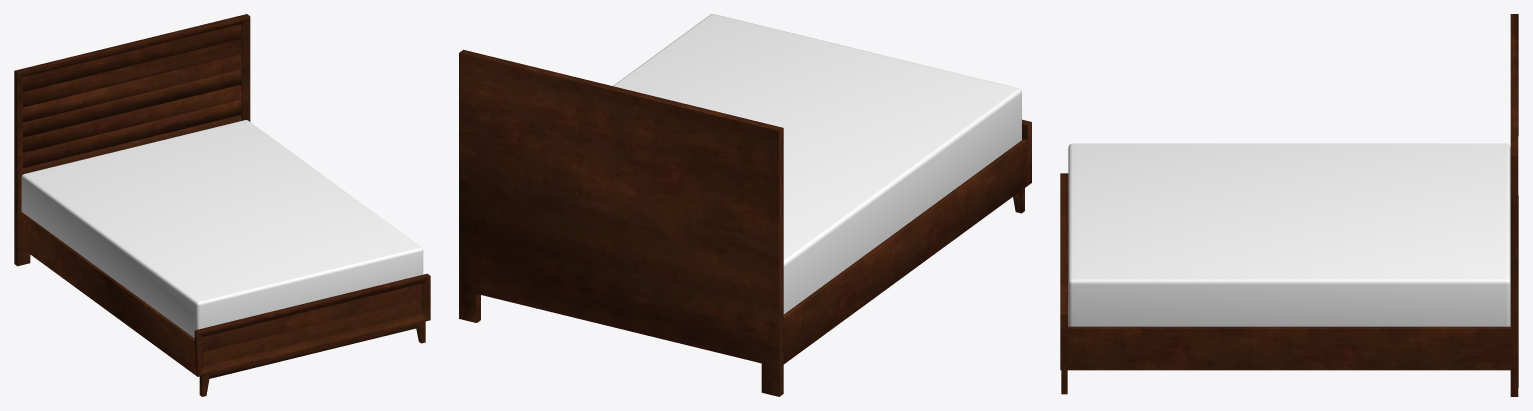
Rendered from B072PWGSZL.glb.
3 views of the same model, side by side, from view 1: azimuth 30°, elevation 25°; view 2: azimuth 150°, elevation 25°; view 3: azimuth 270°, elevation 25° (orthographic). The views are drawn at different scales.
Parts seen in each view (by area): view 1: B072PWGSZL; view 2: B072PWGSZL; view 3: B072PWGSZL.
Boxes of the visible parts, x1,y1,x2,y2 form: B072PWGSZL: (14,14,430,396); B072PWGSZL: (459,14,1031,396); B072PWGSZL: (1060,14,1518,396).
Size of the model in its own units: 1.6 by 1.27 by 2.18.
1 material, 1 textured.
